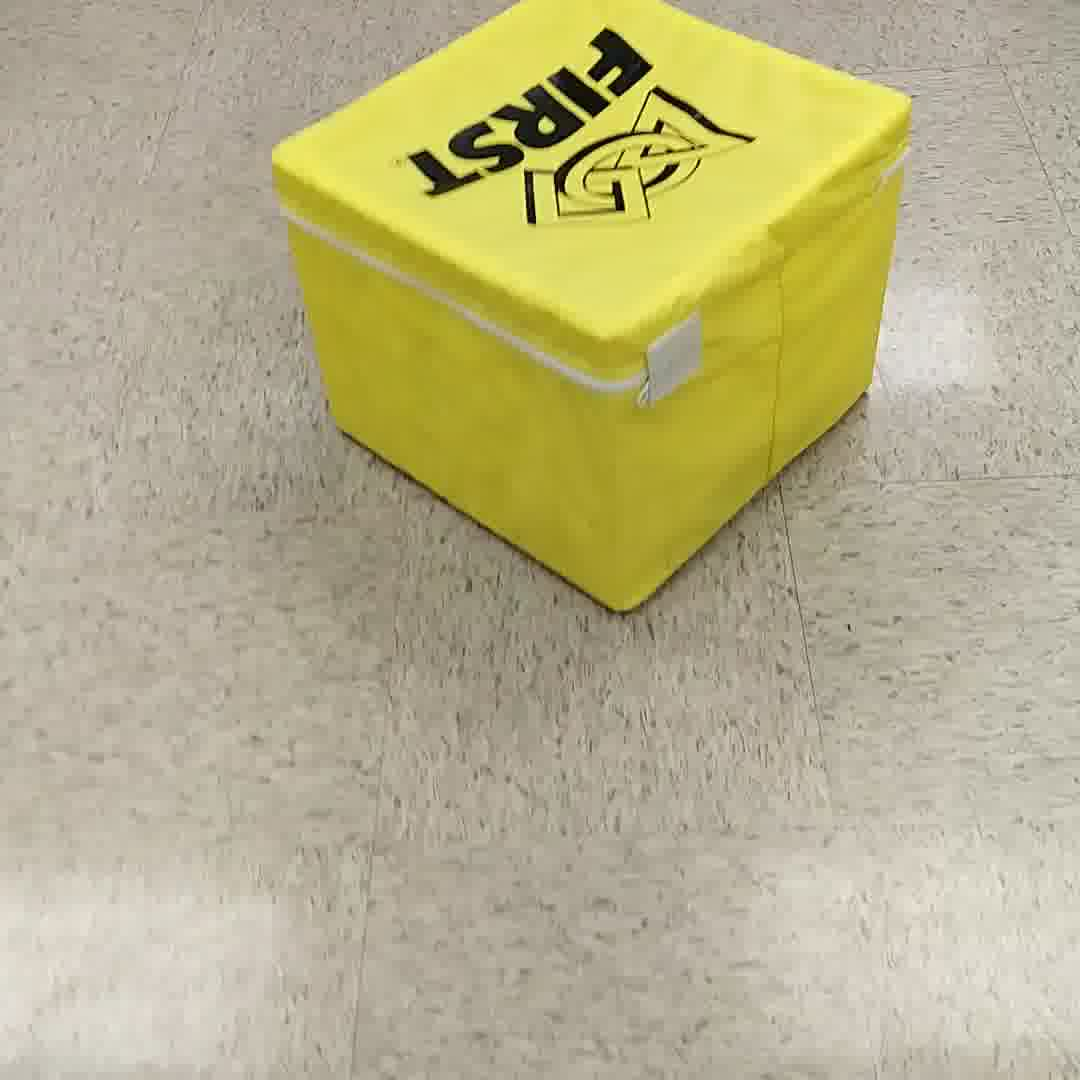box: (269, 5, 911, 633)
